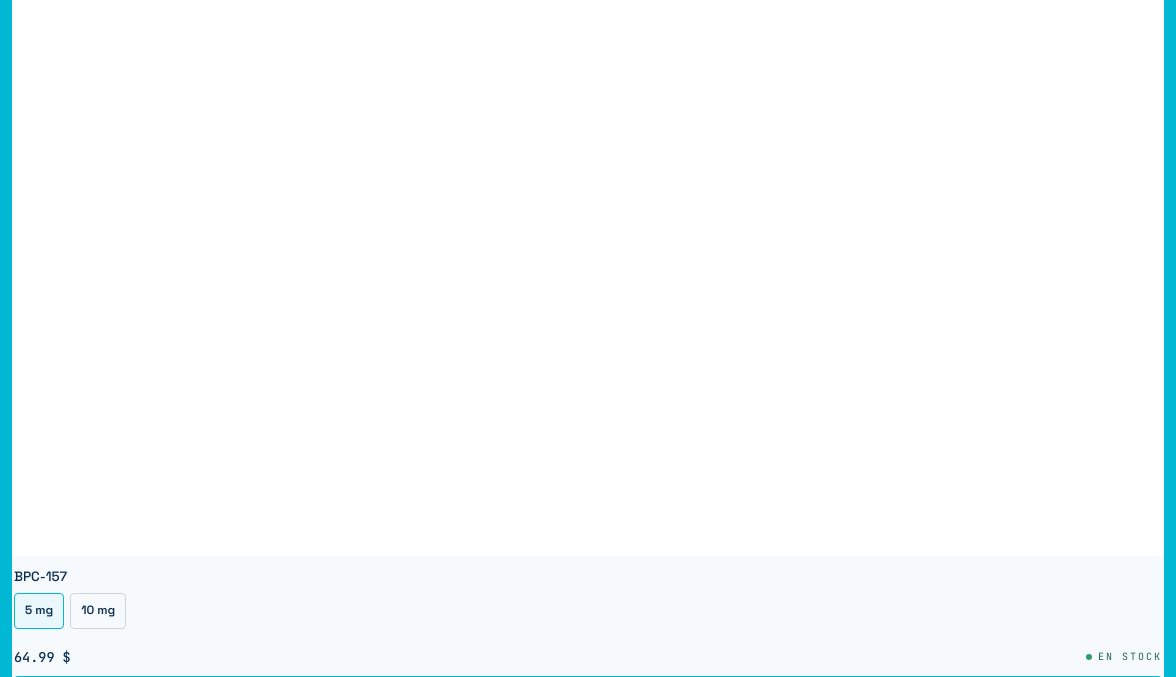
Test: le statut suit aussi la sélection › le stock affiché est celui du dosage choisi
(page scrolled)
Check: the element with test id "card-stock-bpc-157" reads "En stock", box [1098,650,1162,663]
Click the button "10 mg" at (98, 611), box [70,593,126,629]
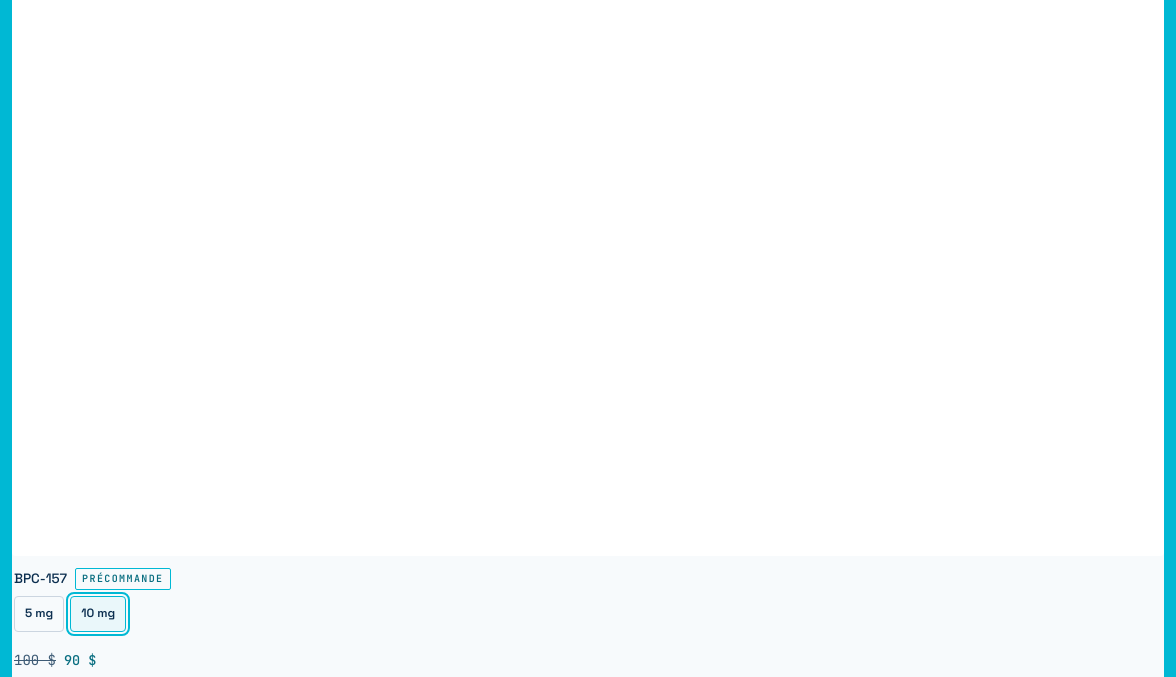
Check: the element with test id "card-stock-bpc-157" is gone
Check: the text "PRÉCOMMANDE" is shown, box [75,568,170,590]
